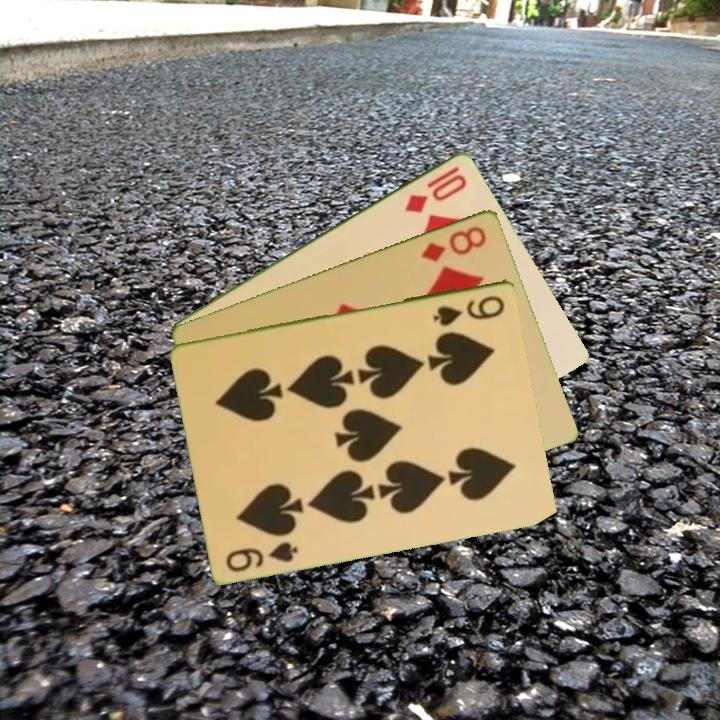10d: (400, 162, 470, 216)
8d: (418, 222, 490, 265)
9s: (429, 291, 508, 329), (222, 537, 301, 575)
